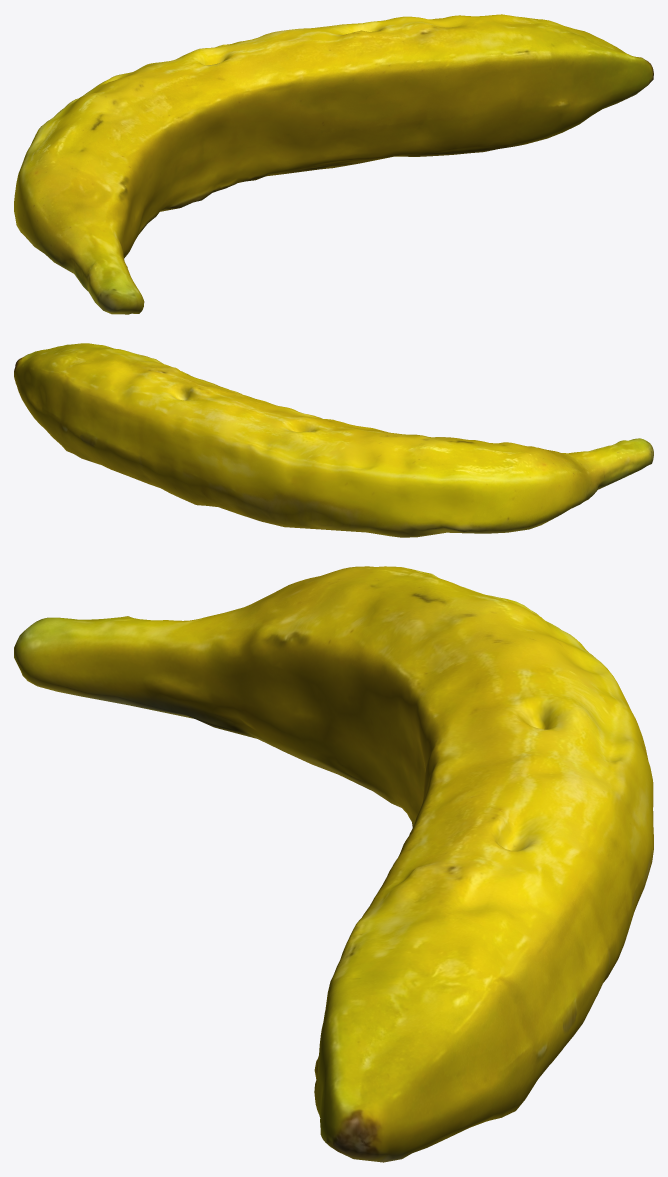
The model's file is banana.obj.
3 renders of one model, top to bottom at view 1: azimuth 30°, elevation 25°; view 2: azimuth 150°, elevation 25°; view 3: azimuth 270°, elevation 25°, orthographic. The views are drawn at different scales.
Parts seen in each view (by area): view 1: Mesh; view 2: Mesh; view 3: Mesh.
Boxes of the visible parts, left/top/right/bottom form: Mesh: left=14, top=14, right=653, bottom=314; Mesh: left=14, top=343, right=653, bottom=537; Mesh: left=14, top=566, right=653, bottom=1162.
Bounding box in the file's own units: 0.1946 × 0.0351 × 0.0997.
1 material, 1 textured.
